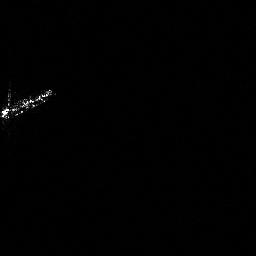ship: (1, 89, 53, 119)
